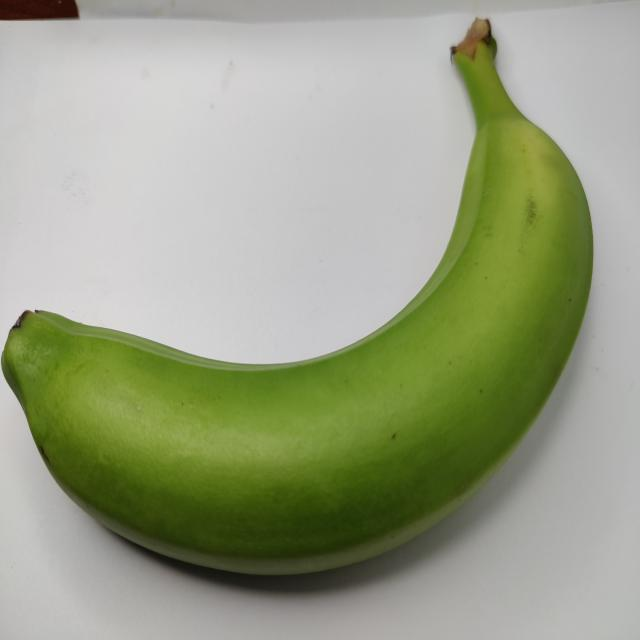raw: (0, 4, 601, 616)
